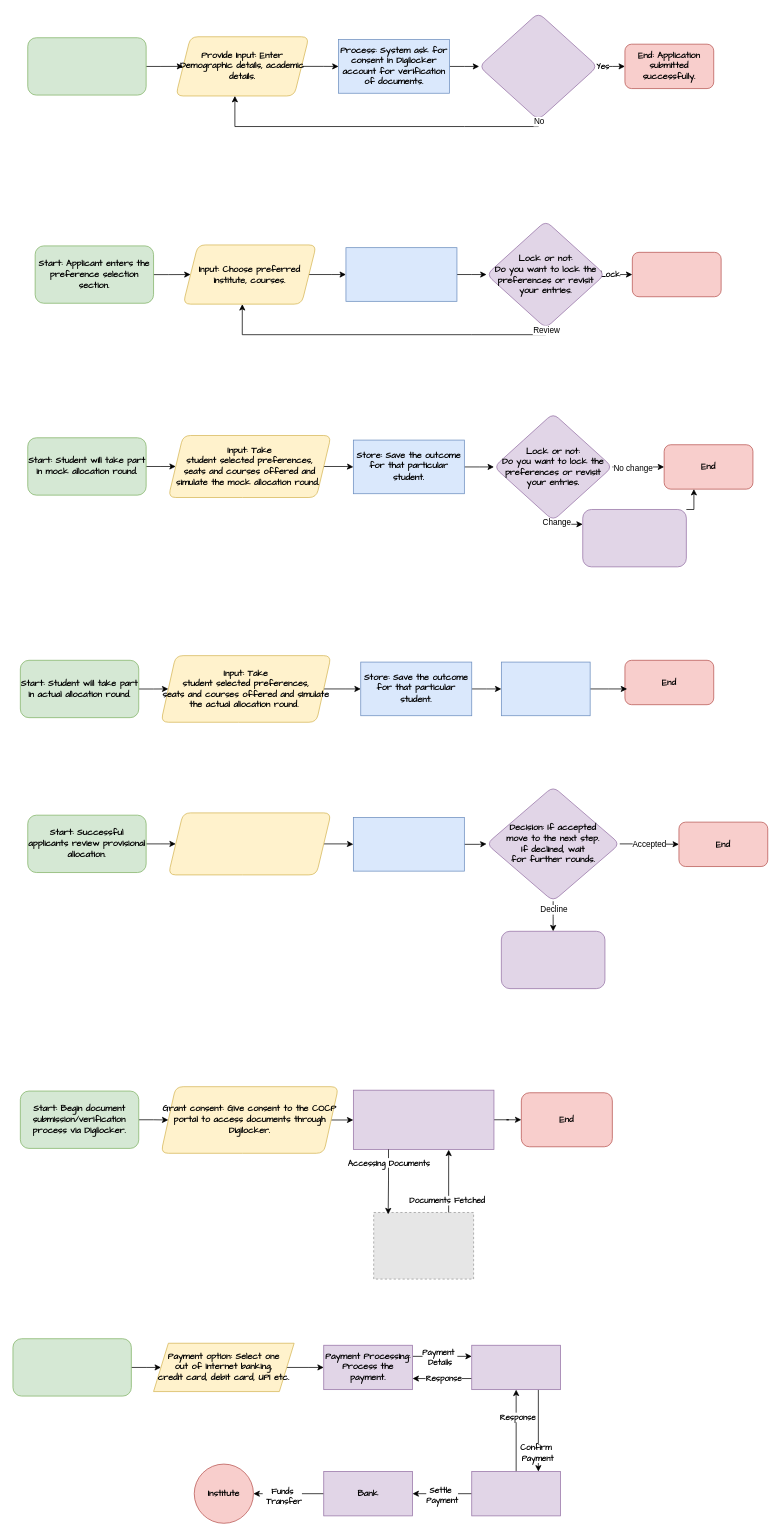
This 781x1537 diagram has some shape labels left out. Grey dashed boxes stand in for pictures. Each missing label, with the centre of its shape:
"Allocation Round : Wait for further round." belongs at pixel 553 960.
"Decision: If valid, move to the next step. Otherwise, prompt for corrections." belongs at pixel 538 66.
"End: Preferences locked." belongs at pixel 676 274.
"Input: Choose accept/decline offer." belongs at pixel 249 843.
"Mobile OTP verification" belongs at pixel 423 1119.
"Notification: Send updates to the students with further instructions." belongs at pixel 545 688.
"Payment Gateway" belongs at pixel 516 1367.
"Payment Processor" belongs at pixel 516 1493.
"Preference order: Change preferences after reviewing outcome." belongs at pixel 634 538.
"Record: System records the acceptance status." belongs at pixel 408 844.
"Start: Applicant begins the application process." belongs at pixel 86 66.
"Start: Start payment process for any dues." belongs at pixel 71 1367.
"Store: Save the entered preferences for that particular student." belongs at pixel 401 274.
